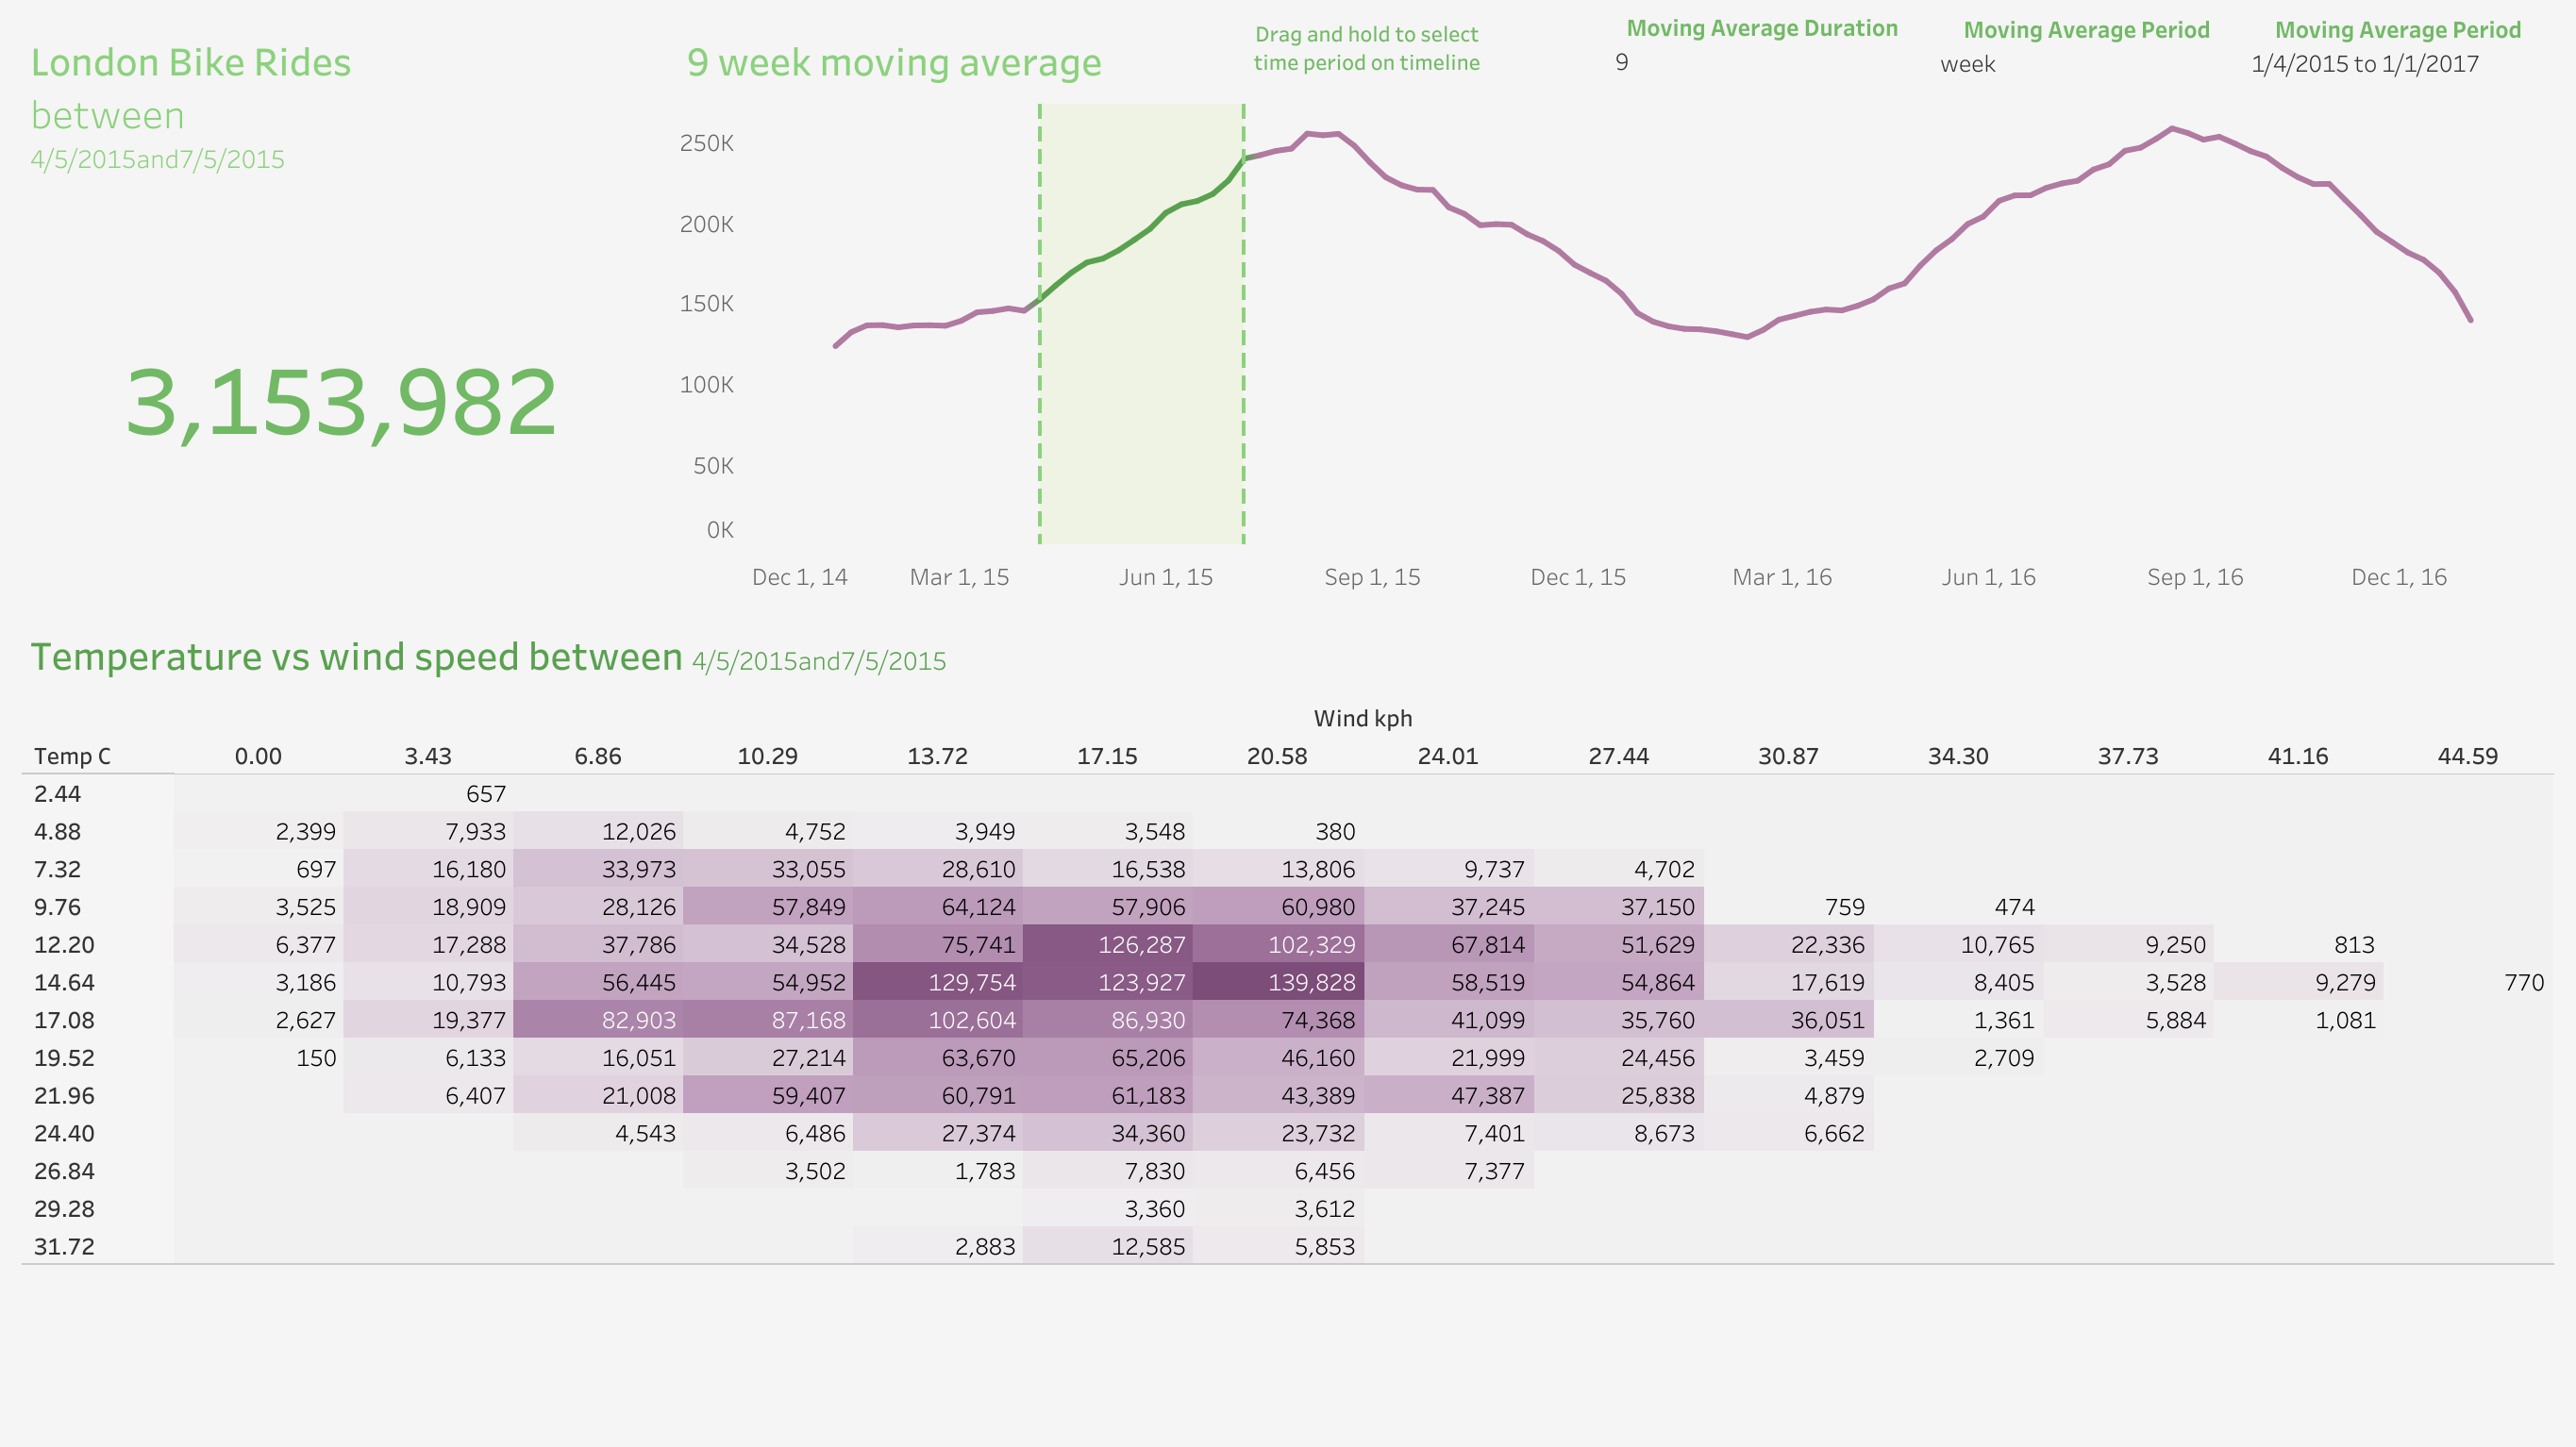

Layout of this report page (visuals, bound fields, positions):
{"tool":"tableau","page":{"name":"Dashboard 1","canvas":[1366,768],"ordinal":0},"visuals":[{"type":"parameter","param":"[Parameters].[Parameter 2]","box":[854,4,160,45]},{"type":"parameter","param":"[Parameters].[Parameter 1]","box":[1026,5,160,54]},{"type":"filter","title":"Moving Average","param":"[federated.0hbjjb30ddkr3v1al453z165duta].[none:Calculation_1055597136556143:qk]","box":[1190,5,162,61]},{"type":"text","box":[656,7,137,36]},{"type":"worksheet","title":"TotalRides","mark":"Automatic","box":[8,8,348,315]},{"type":"worksheet","title":"Moving Average","mark":"Automatic","rows":["Calculation1"],"cols":["Calculation_1055597136556143"],"box":[356,8,1002,315]},{"type":"worksheet","title":"HeatMap","mark":"Square","rows":["temp real C (bin)"],"cols":["Wind Speed Kph (bin)"],"box":[8,323,1350,437]}]}

Visuals, with their boxes in screenshot pixels (x1, y1, x2, y2), scaled from the page's 1366x768 canvas onto the 2576x1447 screenshot:
parameter: box=[1611, 8, 1913, 92]
parameter: box=[1934, 9, 2236, 111]
"Moving Average" filter: box=[2244, 9, 2550, 125]
text: box=[1237, 13, 1496, 81]
"TotalRides" worksheet: box=[15, 15, 671, 608]
"Moving Average" worksheet: box=[671, 15, 2561, 608]
"HeatMap" worksheet (Square marks): box=[15, 608, 2561, 1432]
